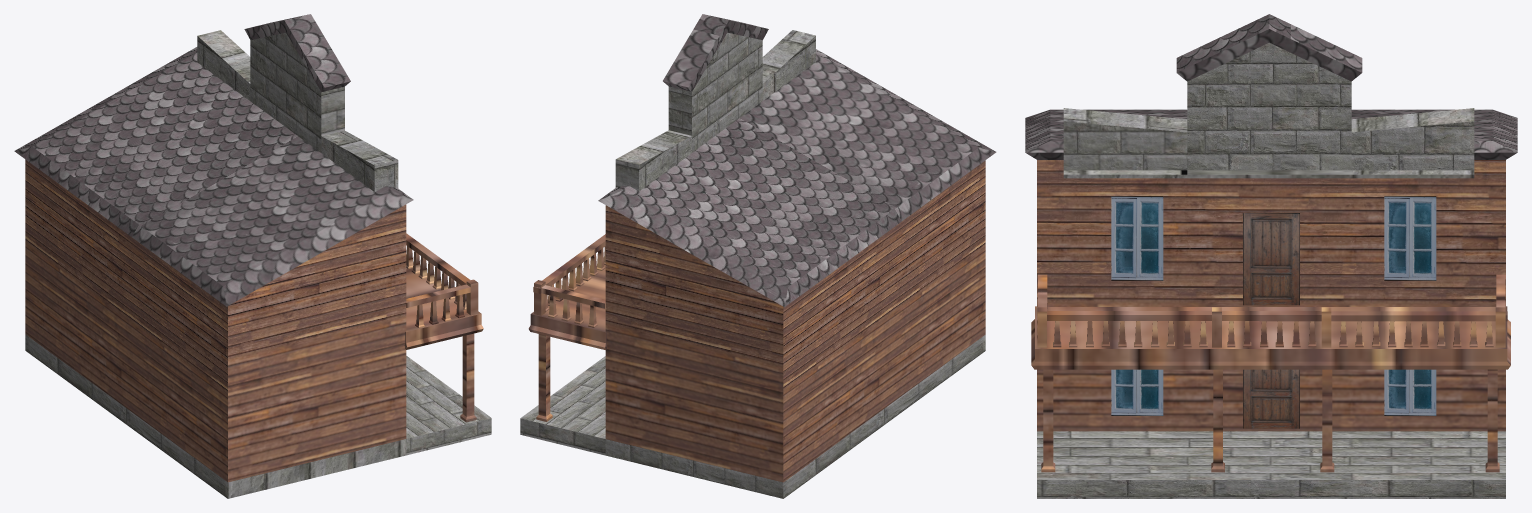
File: Bank 1.fbx
3 views of the same model, side by side, from view 1: azimuth 30°, elevation 25°; view 2: azimuth 150°, elevation 25°; view 3: azimuth 270°, elevation 25° (orthographic). The views are drawn at different scales.
Visible parts, largest first — view 1: bank; view 2: bank; view 3: bank.
Part boxes in pixels (x1,y1,x2,y2): bank: [14, 14, 491, 498]; bank: [520, 14, 996, 498]; bank: [1025, 14, 1517, 498].
Bounding box in the file's own units: 462 × 600 × 630.
1 material, 1 textured.
